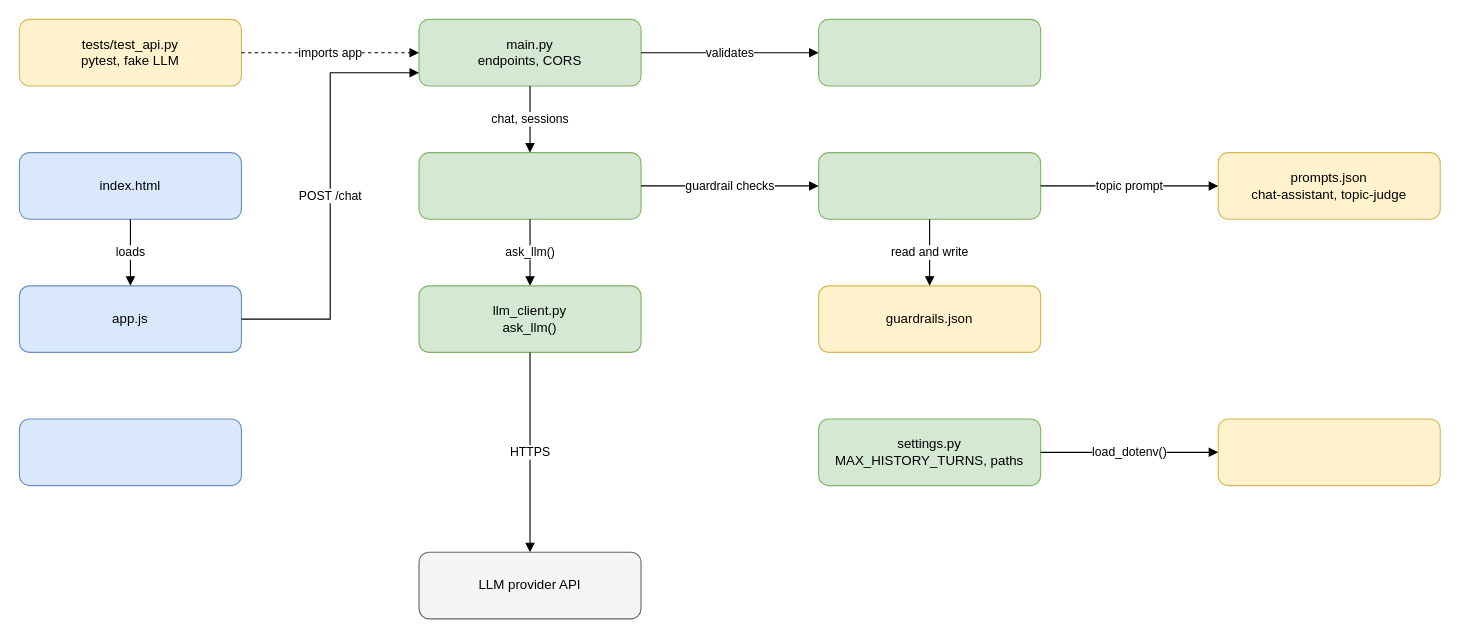
The diagram is 1460 pixels wide and 638 high, and some of its shapes have lost their labels. The shapes that lost their labels are listed below. From the top down, each one's centre as x and y in pixels, then its label:
At [929,52]: "models.py Pydantic models".
At [529,185]: "services.py sessions, prompt, chat".
At [929,185]: "guardrails.py input and output checks".
At [129,452]: "style.css linked from index.html".
At [1328,452]: "backend/.env API keys, LAB_MODEL".
